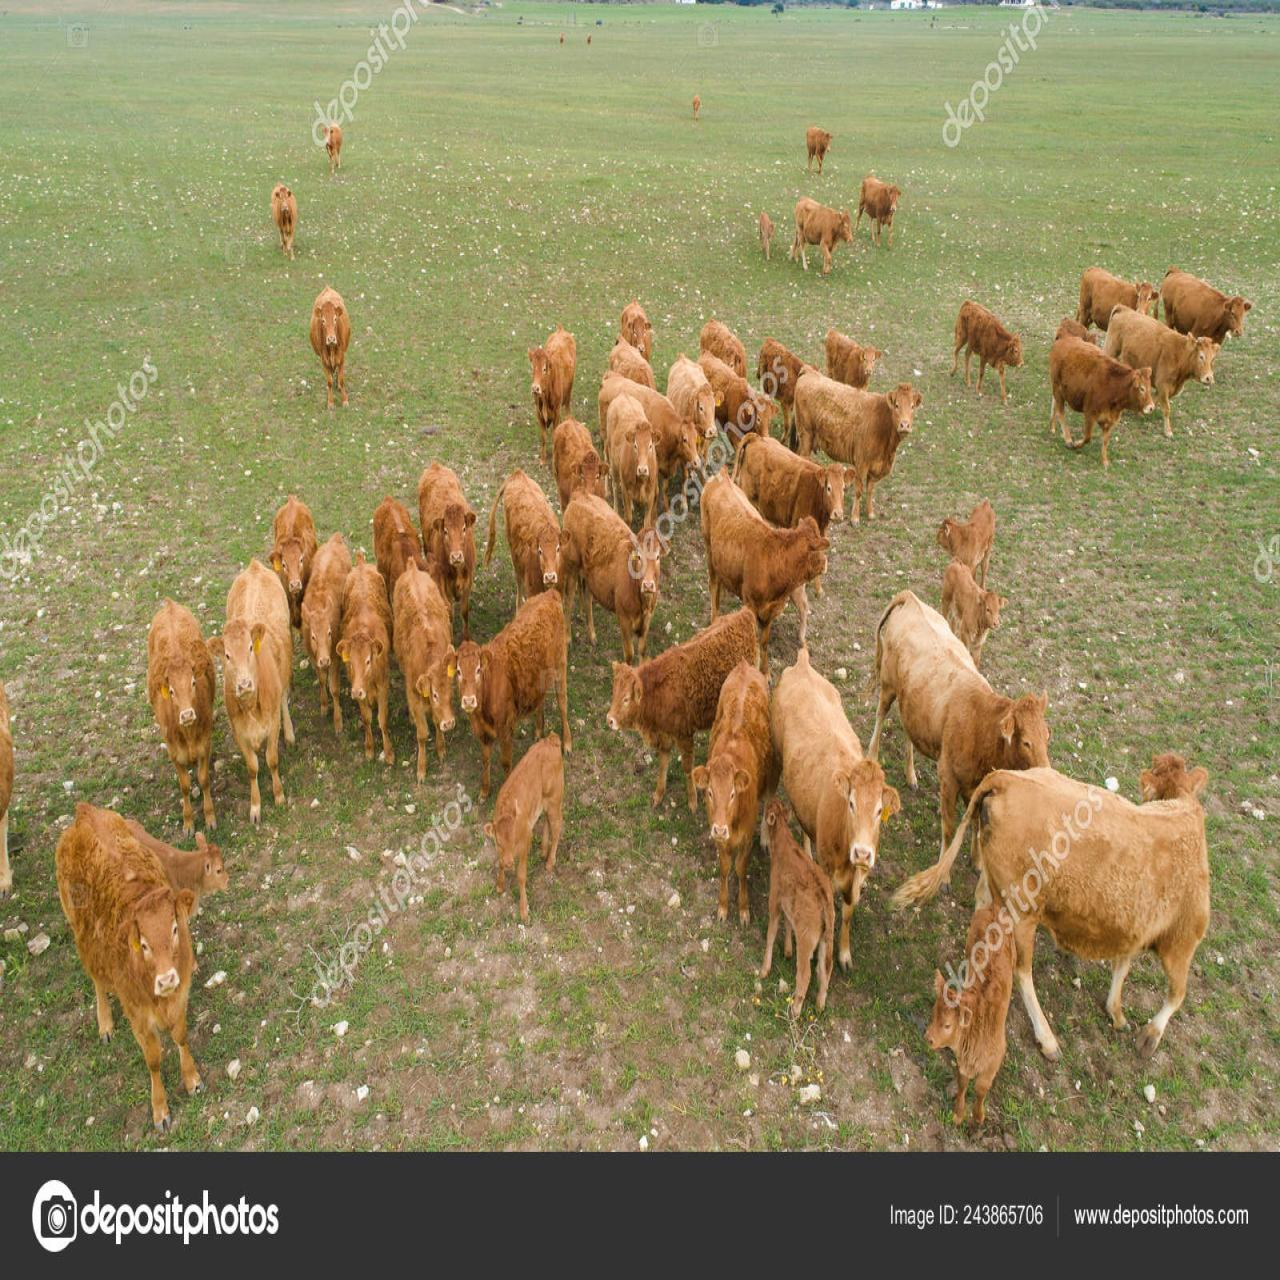cow: (900, 749, 1235, 1102), (52, 798, 212, 1146), (862, 583, 1061, 862), (764, 636, 907, 994), (600, 602, 757, 822), (917, 880, 1036, 1144), (688, 652, 788, 939), (457, 590, 573, 815), (203, 558, 304, 806), (128, 584, 226, 836), (540, 492, 670, 675), (692, 478, 833, 626), (776, 367, 915, 510), (701, 418, 851, 539), (482, 742, 572, 933), (383, 573, 464, 778), (332, 553, 404, 778), (486, 462, 571, 641), (594, 379, 707, 512), (1098, 307, 1224, 427), (114, 815, 240, 928), (1041, 331, 1148, 457), (300, 525, 359, 731), (416, 452, 483, 621), (1156, 259, 1259, 348), (260, 467, 320, 617), (930, 482, 1003, 599), (549, 397, 613, 529), (604, 387, 660, 533), (356, 474, 425, 590), (696, 352, 782, 443), (940, 552, 1009, 662), (949, 299, 1026, 393), (305, 287, 361, 409), (1075, 263, 1160, 342), (667, 348, 722, 465), (791, 195, 857, 278), (754, 332, 812, 415), (818, 315, 877, 393), (529, 320, 566, 434), (693, 307, 748, 381), (618, 290, 662, 368), (859, 176, 905, 244), (272, 181, 300, 259), (806, 124, 836, 176), (320, 123, 347, 176), (753, 199, 774, 261)
